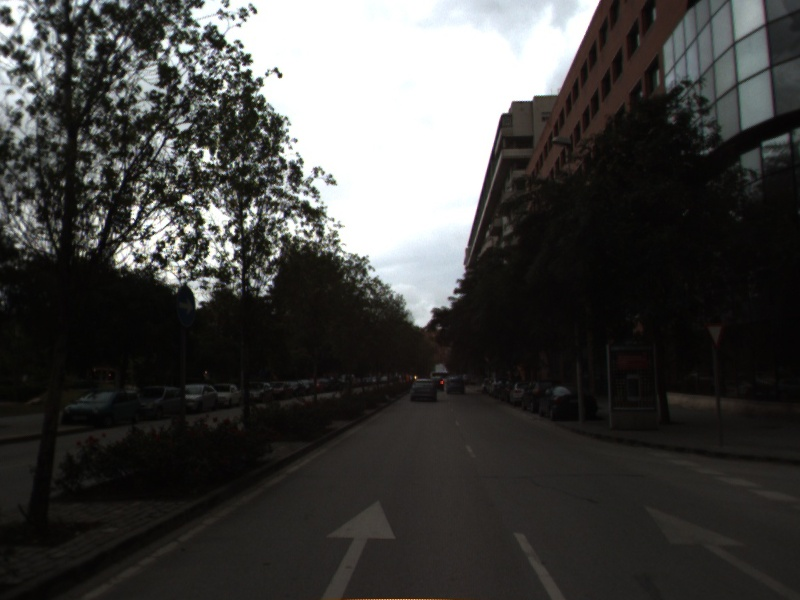STRAIGHT: (639, 500, 800, 600), (319, 496, 399, 600)
